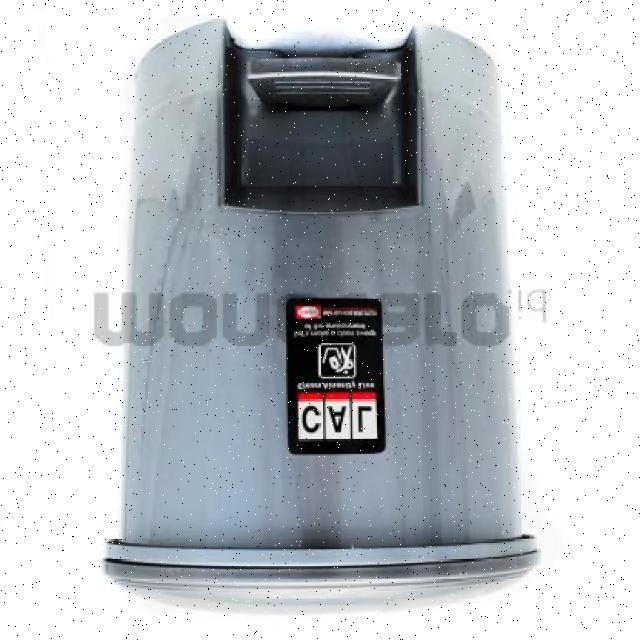garbage container: (79, 4, 555, 627)
